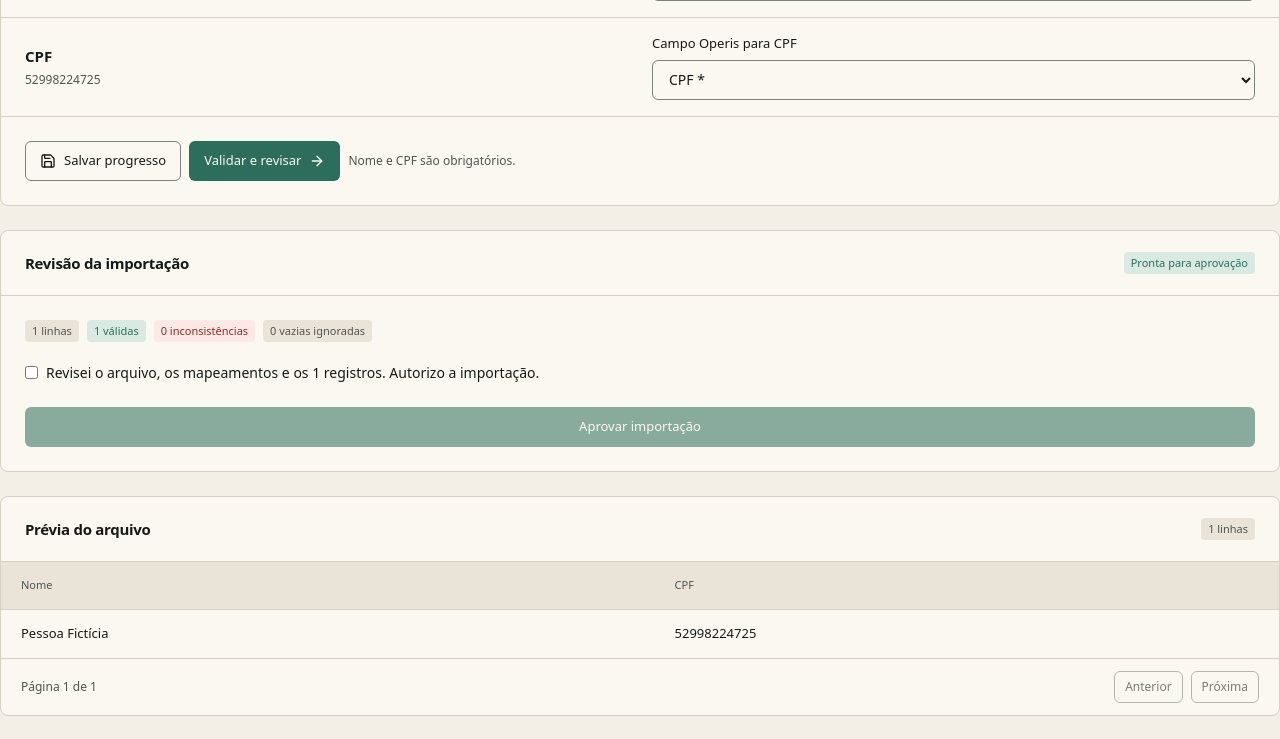
Test: human approval boundary › requires explicit review and invalidates approval after a local mapping edit
(page scrolled)
expect the button "Aprovar importação" is disabled: met, box [25,406,1255,446]
Click the checkbox at (32, 372), box [25,366,38,378]
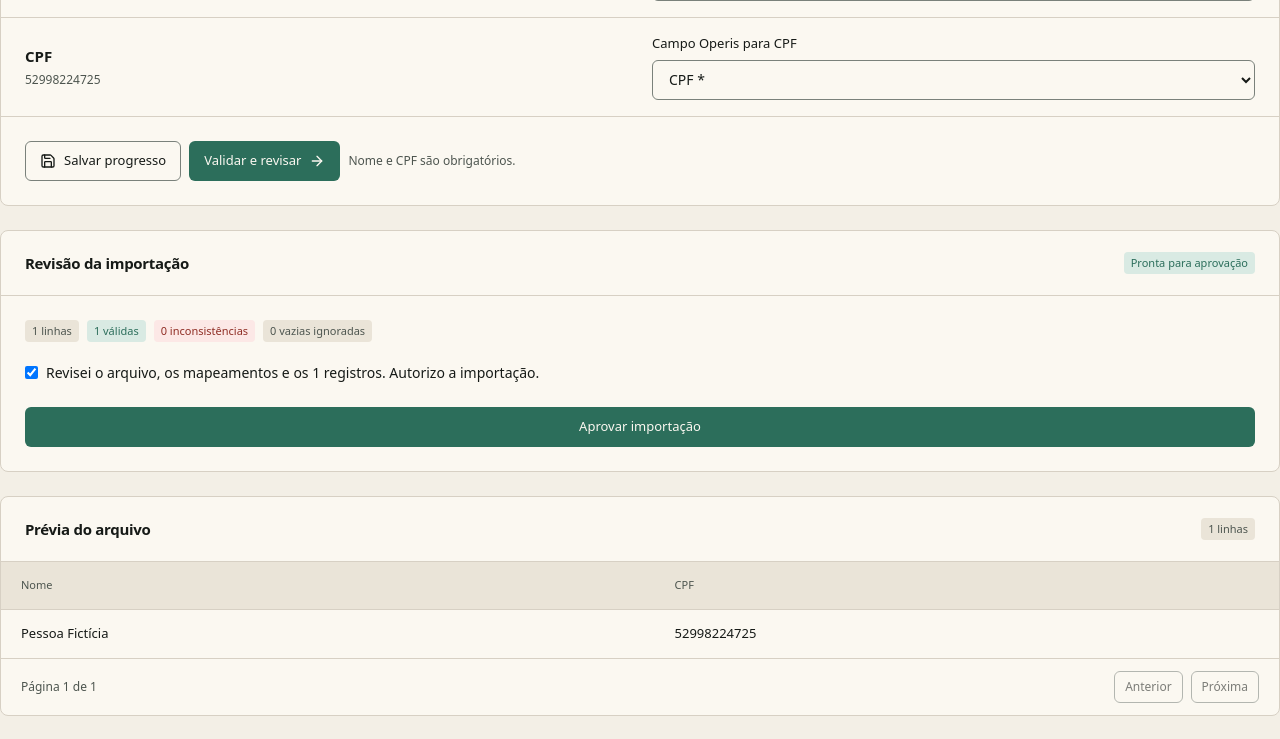
expect the button "Aprovar importação" is enabled: met, box [25,406,1255,446]
Select "Não importar esta coluna" in the dropdown labelled "Campo Operis para CPF" at (954, 80), box [652,60,1255,100]
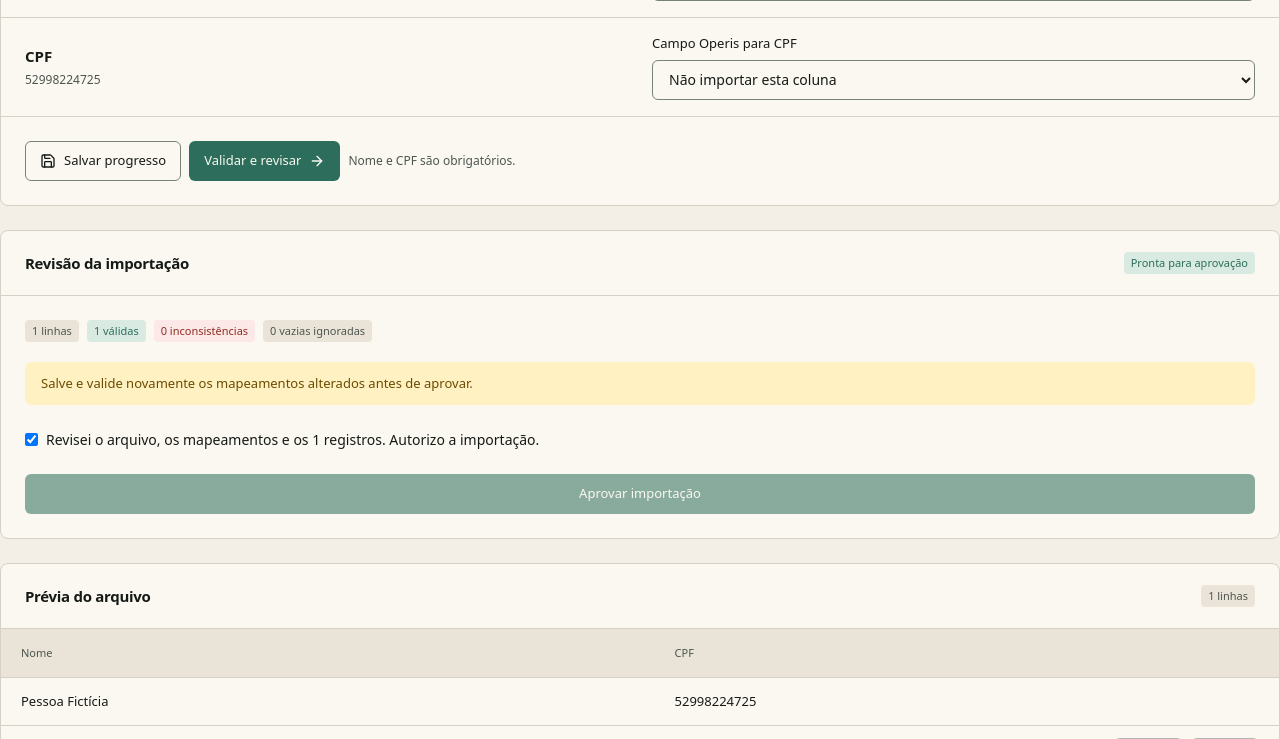
expect the button "Aprovar importação" is disabled: met, box [25,474,1255,514]
expect the text "Salve e valide novamente os mapeamentos alterados antes de aprovar." is shown: met, box [25,362,1255,405]
